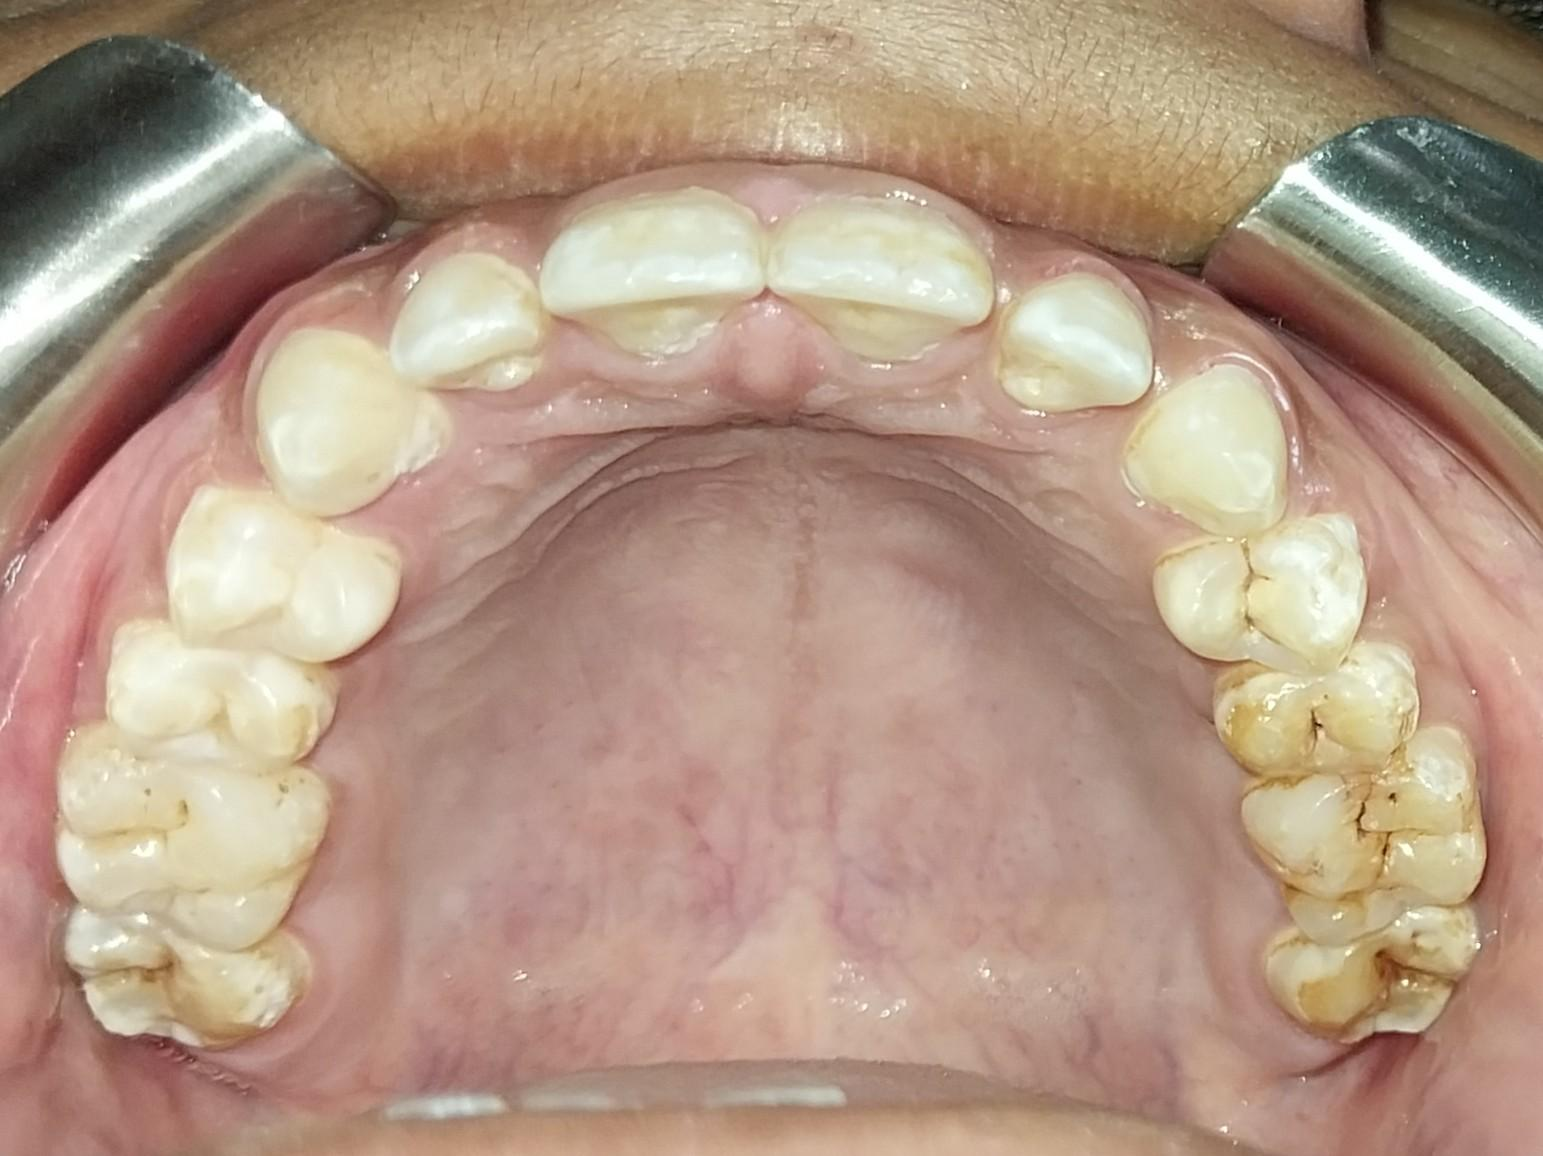D: (1242, 740, 1495, 905), (1269, 899, 1483, 1044), (1163, 528, 1369, 676), (1210, 656, 1416, 781)
